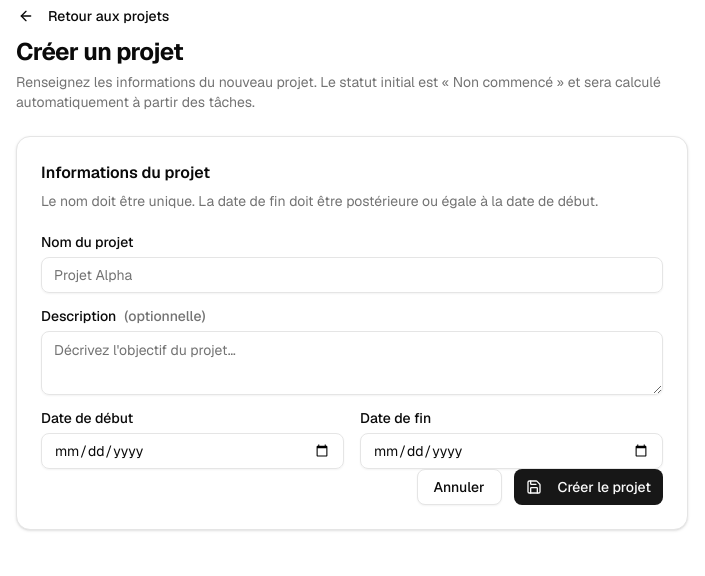
Test: Formulaire de création de projet › affiche l'erreur de nom déjà utilisé sous le champ nom
Type "Projet Doublon" into the field labelled "Nom du projet" at (352, 275), box x1=41 y1=257 x2=663 y2=293
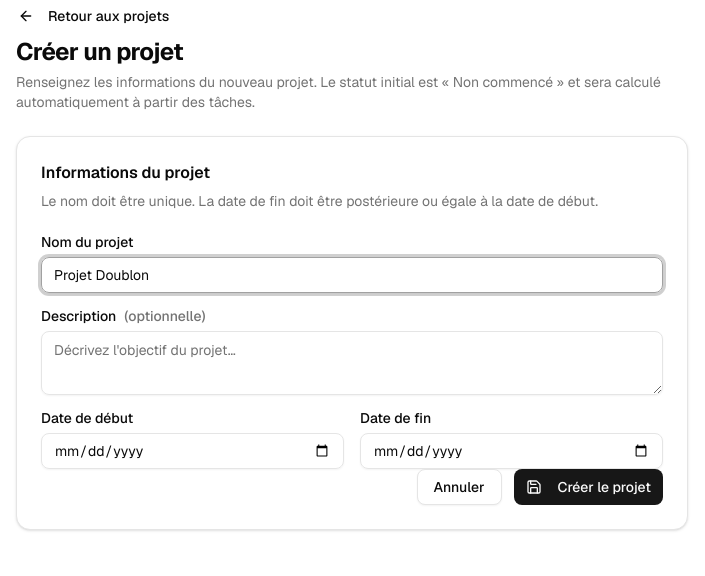
Type "2025-01-01" into the date field labelled "Date de début" at (192, 451), box x1=41 y1=433 x2=344 y2=469
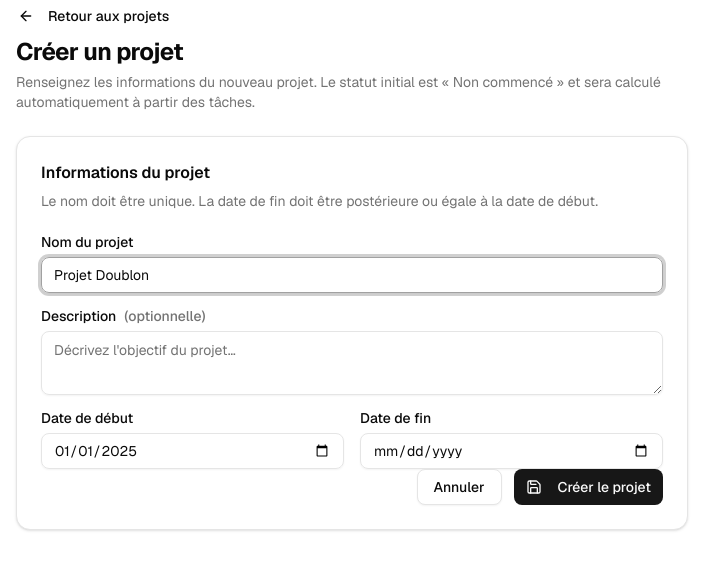
Type "2025-12-31" into the date field labelled "Date de fin" at (512, 451), box x1=360 y1=433 x2=663 y2=469
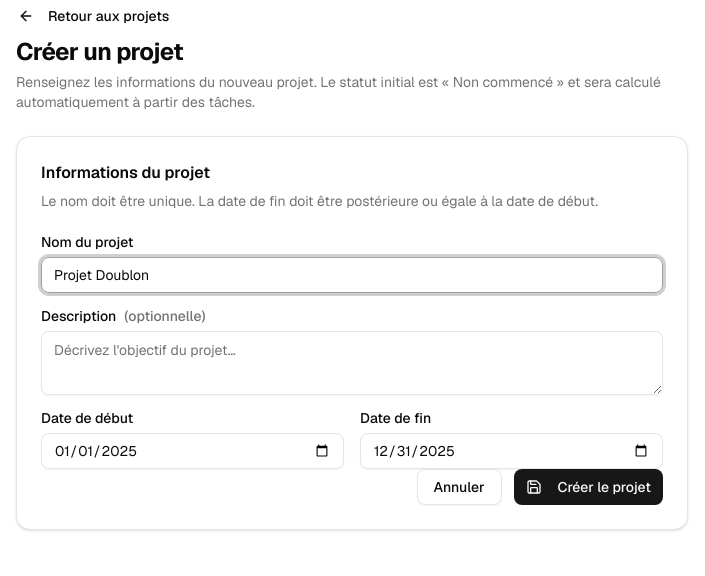
Click the button "Créer le projet" at (588, 487), box x1=514 y1=469 x2=663 y2=505
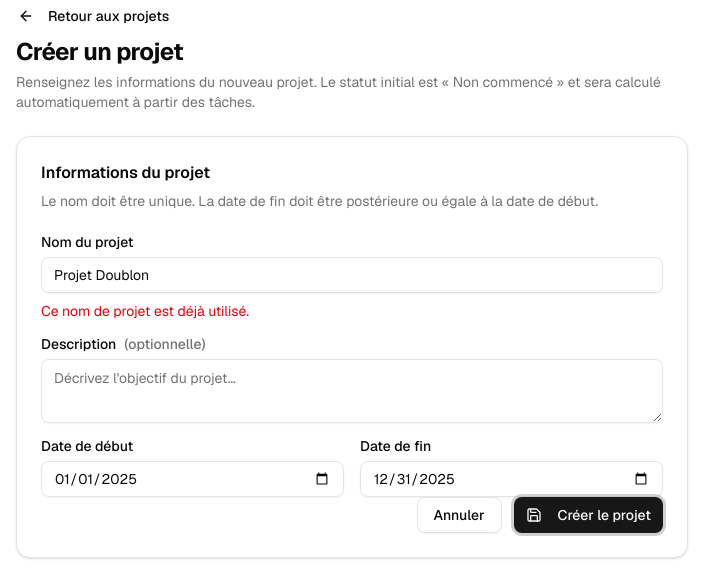
Check: the text "Ce nom de projet est déjà utilisé." is shown, box x1=41 y1=302 x2=249 y2=320
